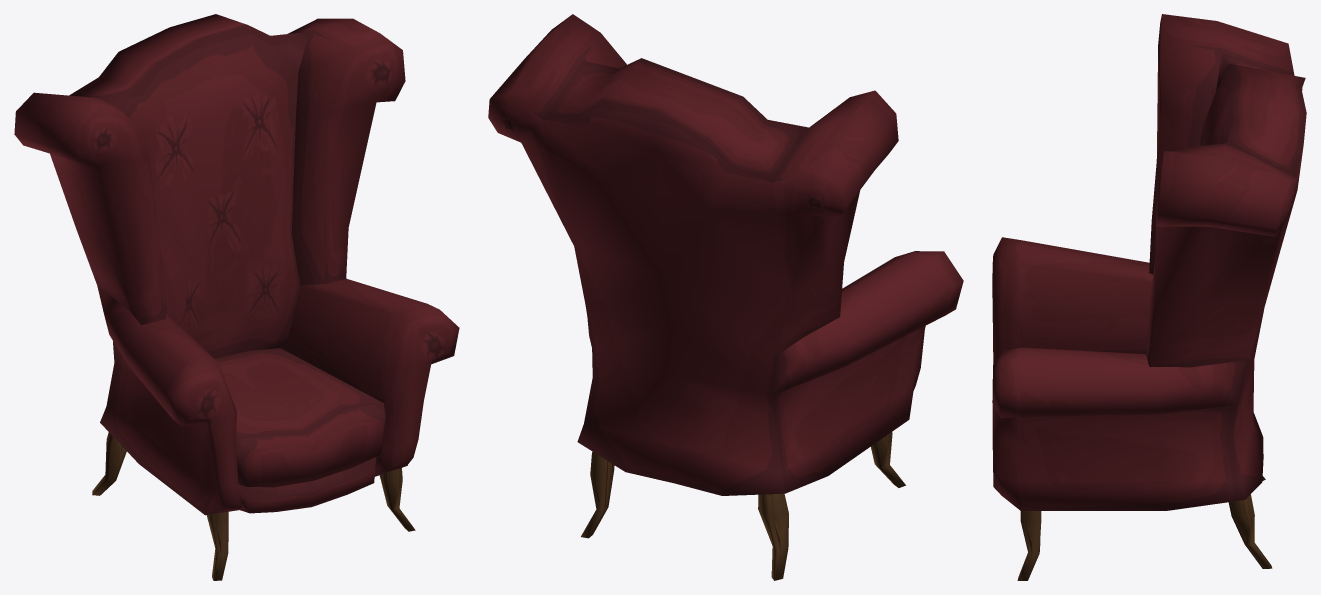
Rendered from SM_PROP_armchair_interior_01.fbx.
3 views of the same model, side by side, from view 1: azimuth 30°, elevation 25°; view 2: azimuth 150°, elevation 25°; view 3: azimuth 270°, elevation 25° (orthographic). The views are drawn at different scales.
Parts seen in each view (by area): view 1: SM_PROP_armchair_interior_01; view 2: SM_PROP_armchair_interior_01; view 3: SM_PROP_armchair_interior_01.
Part boxes in pixels (box(x1,y1,x2,y2)): SM_PROP_armchair_interior_01: box(14, 14, 459, 580); SM_PROP_armchair_interior_01: box(488, 14, 963, 580); SM_PROP_armchair_interior_01: box(992, 14, 1306, 580).
Size of what is drawn, in the model's own units: 124 by 156 by 97.81.
